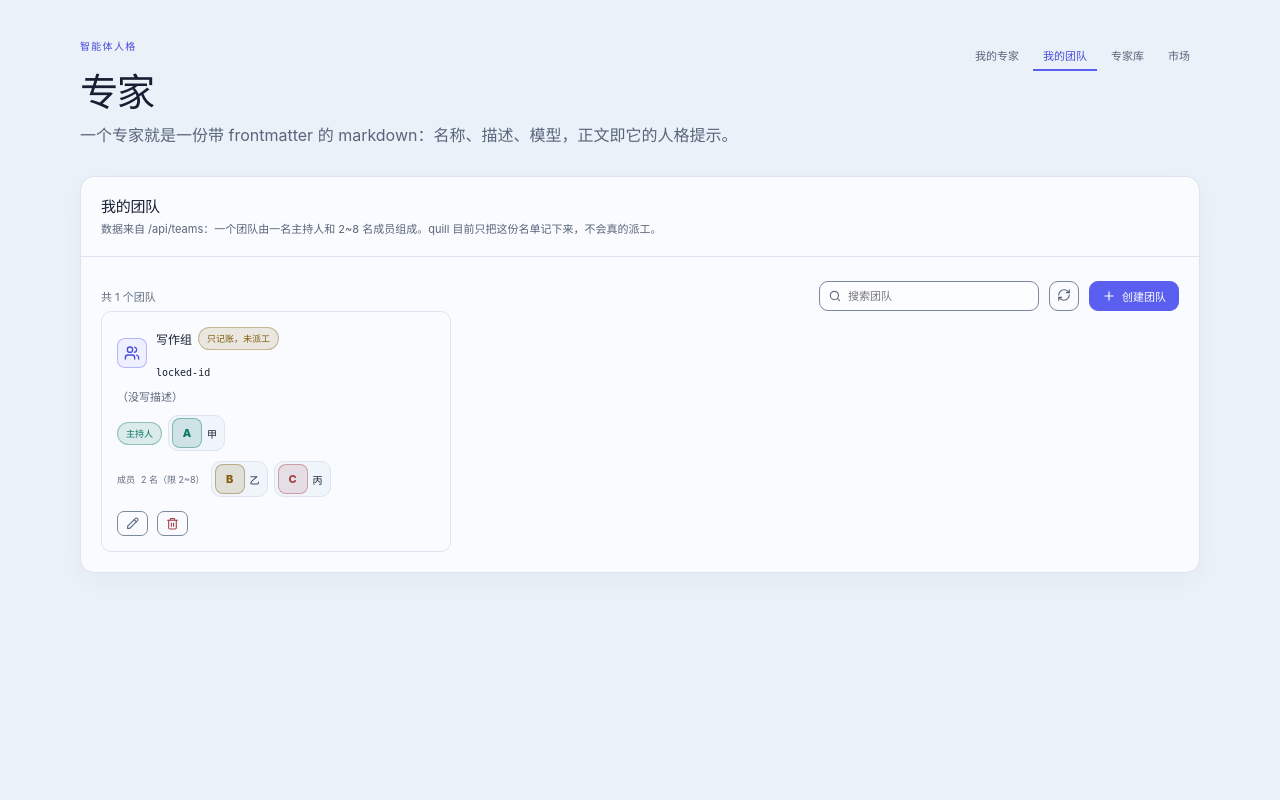
Test: 编辑时锁定团队标识
This screenshot has width=1280, height=800.
Expected: the text "共 1 个团队" is shown, 101,288 -> 156,304
Click the button named "编辑" at (132,524), box 117,511 -> 148,536
(page scrolled)
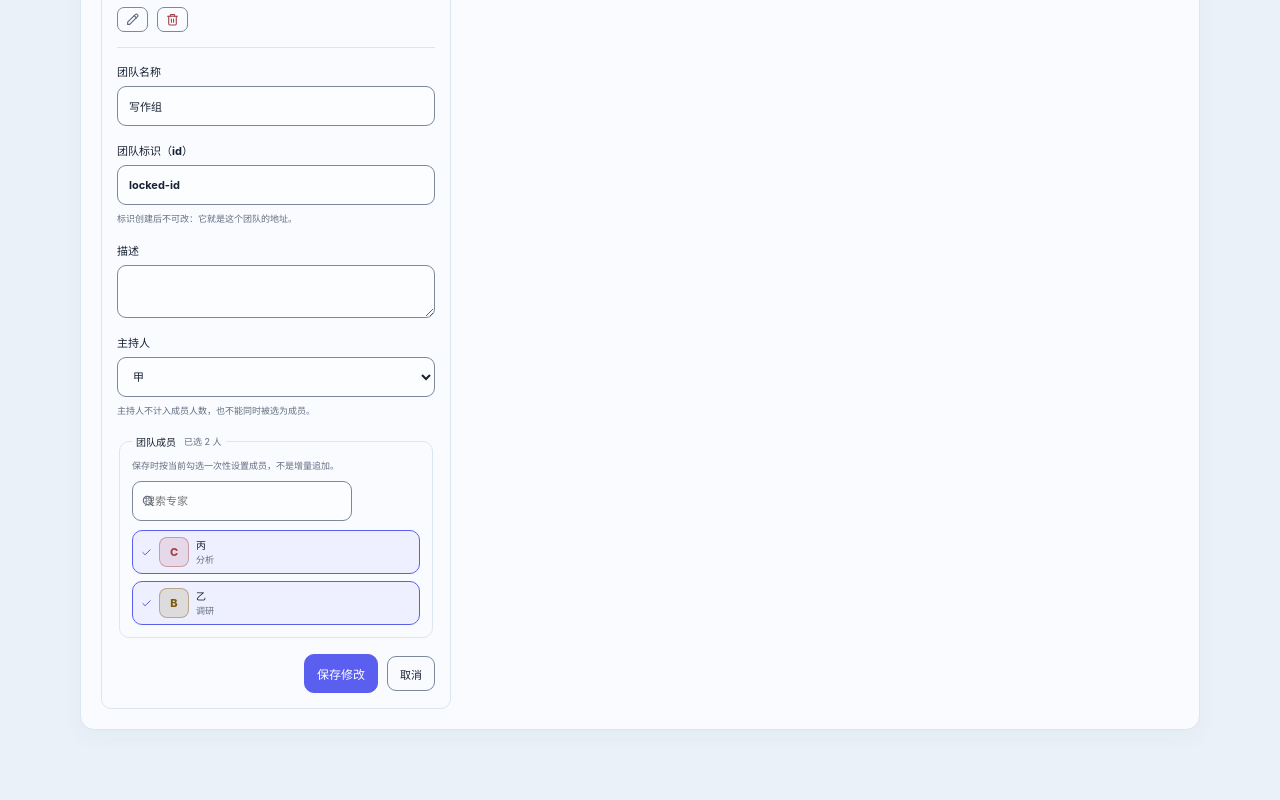
Result: the field named "team_id" is disabled at 117,165 -> 435,205
Result: the field named "team_id" holds "locked-id" at 117,165 -> 435,205
Result: the text "标识创建后不可改：它就是这个团队的地址。" is shown at 117,213 -> 297,224
